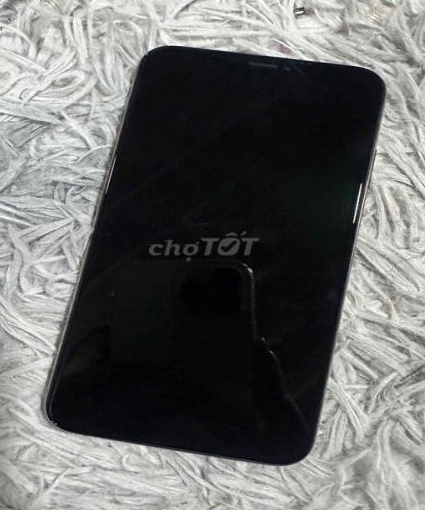scratch: (140, 43, 177, 62)
